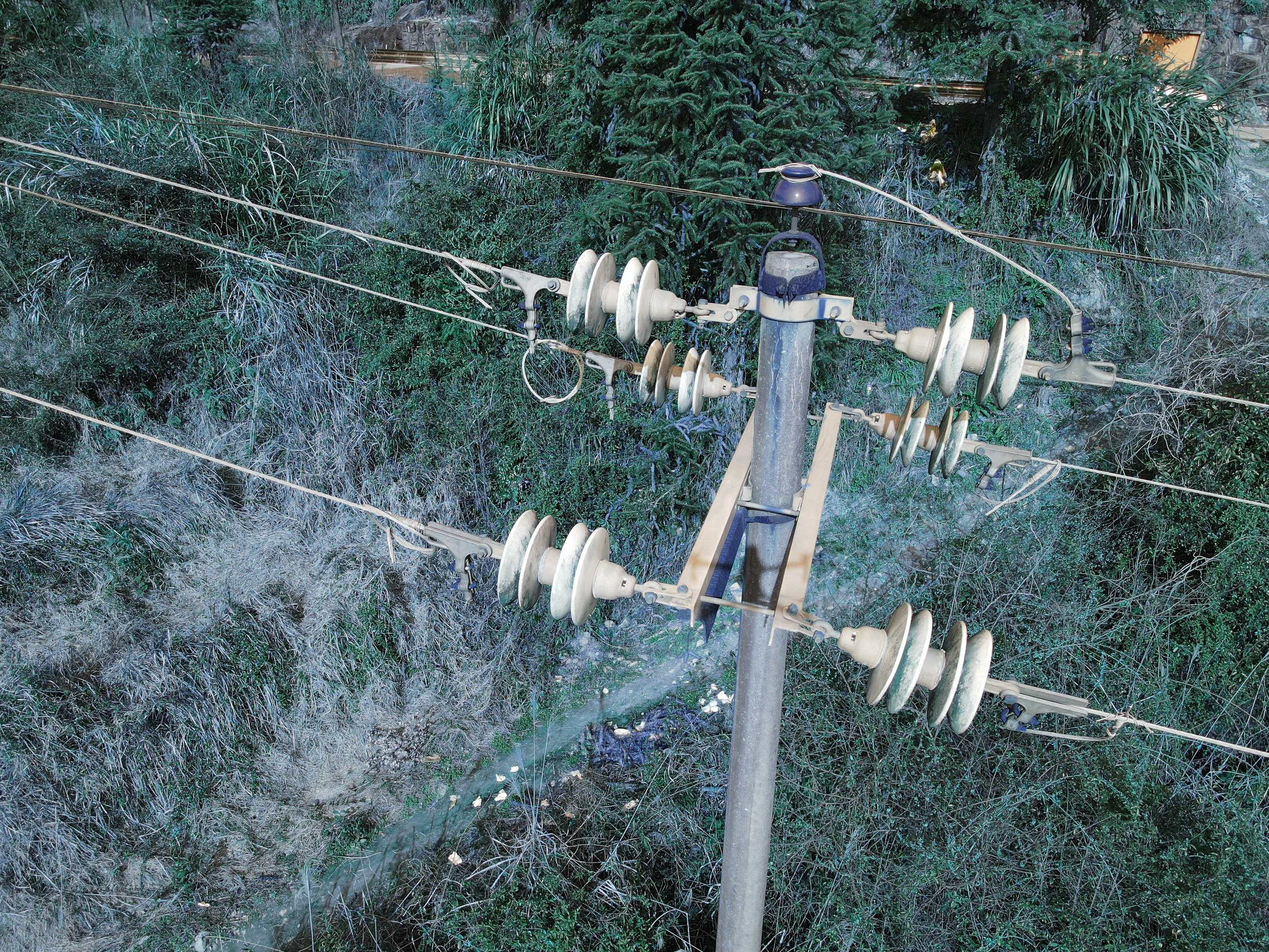severe_soiling_no_discharge_whole: (833, 597, 998, 735), (489, 506, 642, 628), (896, 297, 1038, 415), (559, 246, 686, 346), (868, 393, 971, 480), (633, 337, 733, 417)
